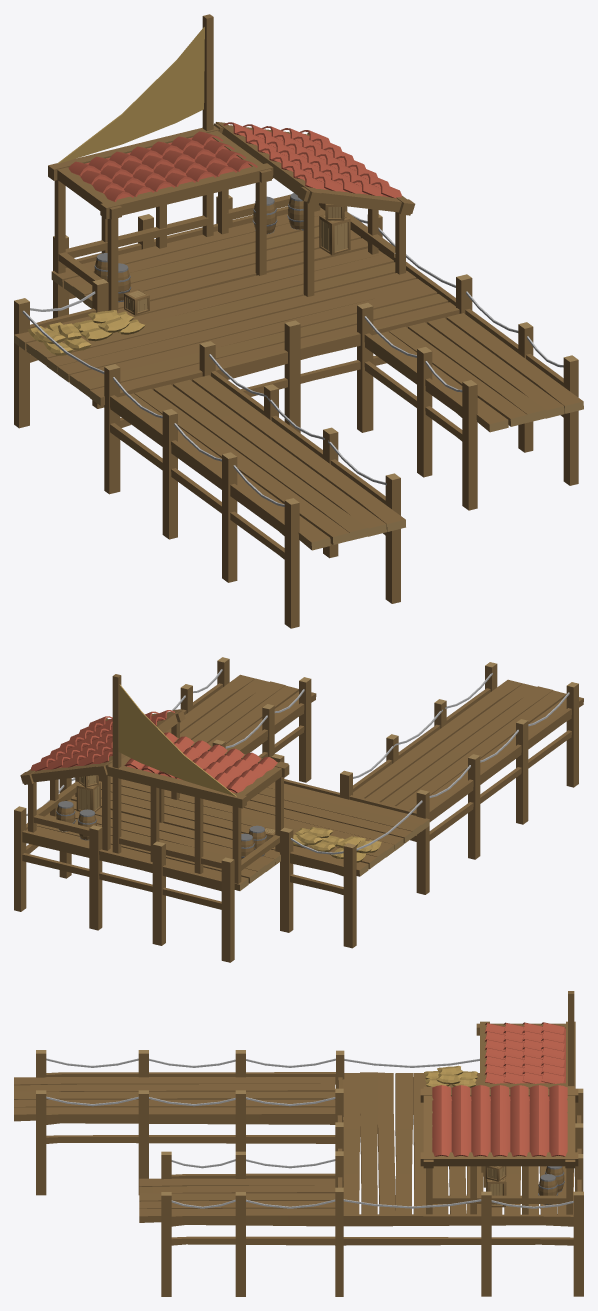
File: Port-4sE6lmhGPF.glb
3 views of the same model, one above another, from view 1: azimuth 30°, elevation 25°; view 2: azimuth 150°, elevation 25°; view 3: azimuth 270°, elevation 25° (orthographic). The views are drawn at different scales.
Parts seen in each view (by area): view 1: Port_SecondAge_Level1; view 2: Port_SecondAge_Level1; view 3: Port_SecondAge_Level1.
Boxes of the visible parts, box(x1,y1,x2,y2) form: Port_SecondAge_Level1: box(14, 14, 583, 628); Port_SecondAge_Level1: box(14, 657, 583, 962); Port_SecondAge_Level1: box(14, 991, 583, 1296).
Size of the model in its own units: 1.75 by 1.43 by 2.88.
